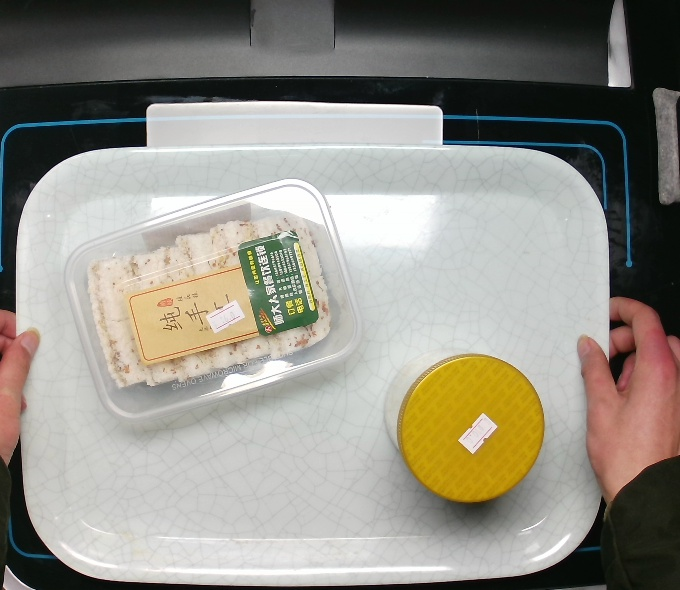wcq-GuiHuaGao: (63, 174, 366, 424)
wcq-MaiYaTang: (381, 345, 548, 509)
